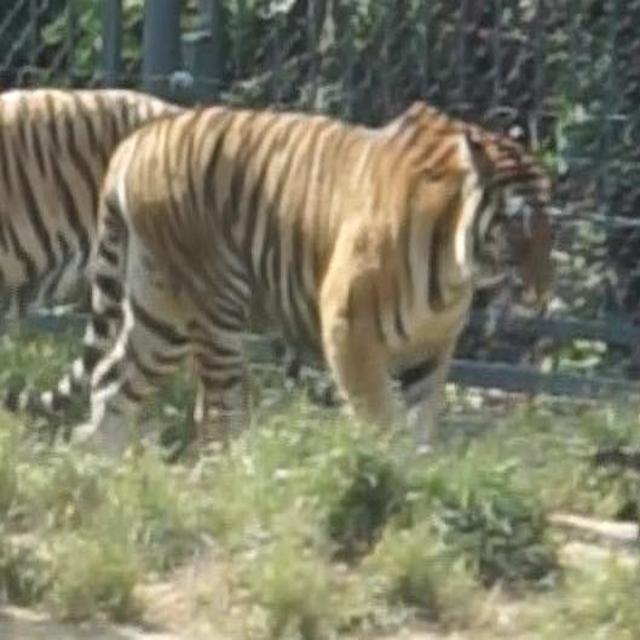tiger: (10, 97, 558, 464), (0, 86, 191, 342)
